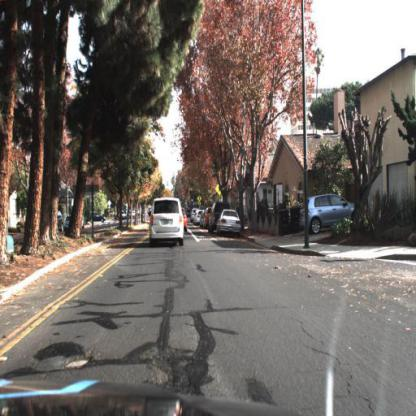car: (300, 192, 364, 238), (144, 196, 194, 251), (216, 207, 245, 240), (89, 211, 110, 229), (209, 200, 219, 234)
pedestrian: (283, 193, 292, 211)
